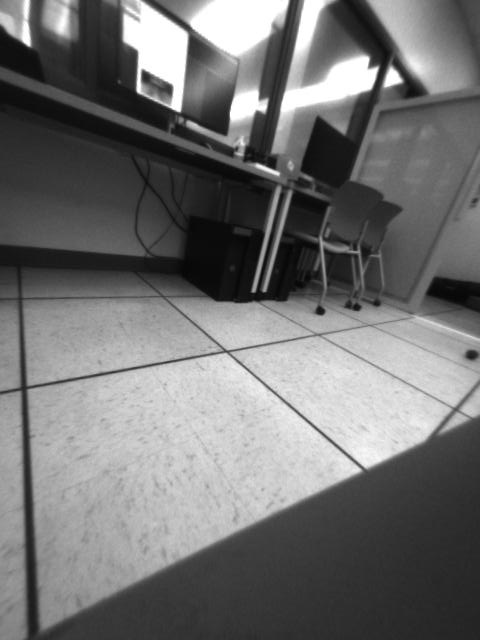dogtoy: (461, 343, 480, 364)
